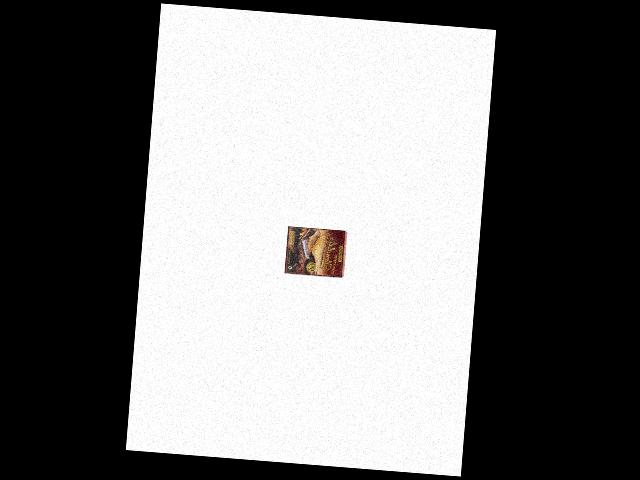chocolate: (284, 226, 347, 278)
